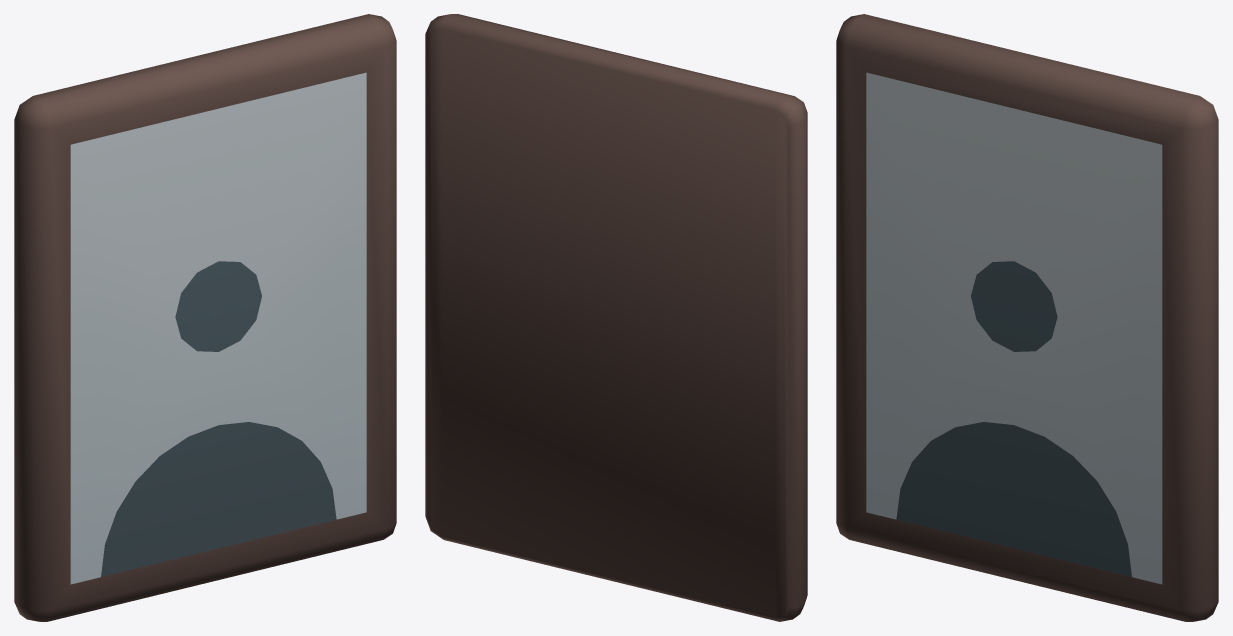
The model's file is Picture_05.glb.
3 renders of one model, left to right at view 1: azimuth 30°, elevation 25°; view 2: azimuth 150°, elevation 25°; view 3: azimuth 330°, elevation 25°, orthographic.
Visible parts, largest first — view 1: Picture_05; view 2: Picture_05; view 3: Picture_05.
Part boxes in pixels (x1=…): Picture_05: x1=14, y1=14, x2=396, y2=621; Picture_05: x1=425, y1=14, x2=807, y2=621; Picture_05: x1=836, y1=14, x2=1218, y2=621.
Bounding box in the file's own units: 0.6 × 0.8 × 0.06.
1 material, 1 textured.
